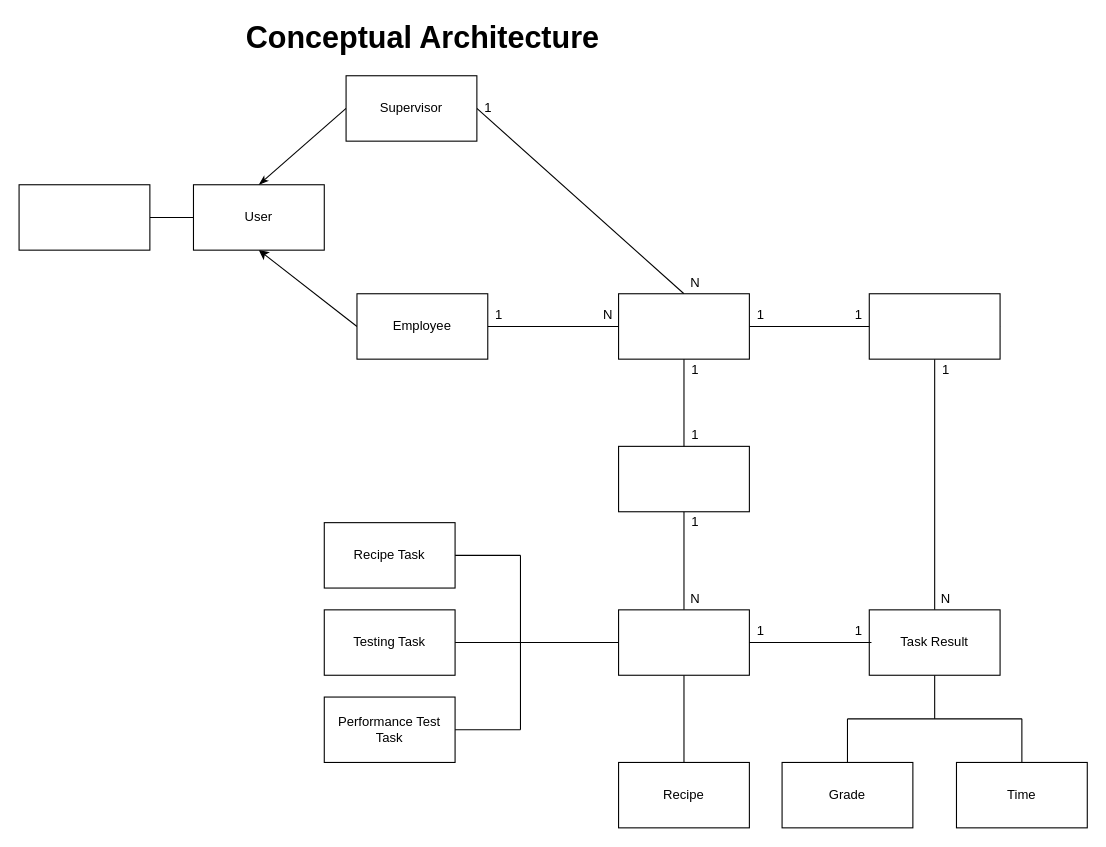
This 1106x847 diagram has some shape labels left out. The shapes that lost their labels are listed below. From the top down, each one's box as (x1, y1, x2, y2) in pixels, then its label:
(18, 184, 150, 250): Profile
(617, 293, 749, 359): Training Session
(868, 293, 1000, 359): Training Result
(617, 445, 749, 512): Training Module
(617, 609, 749, 675): Tasks
